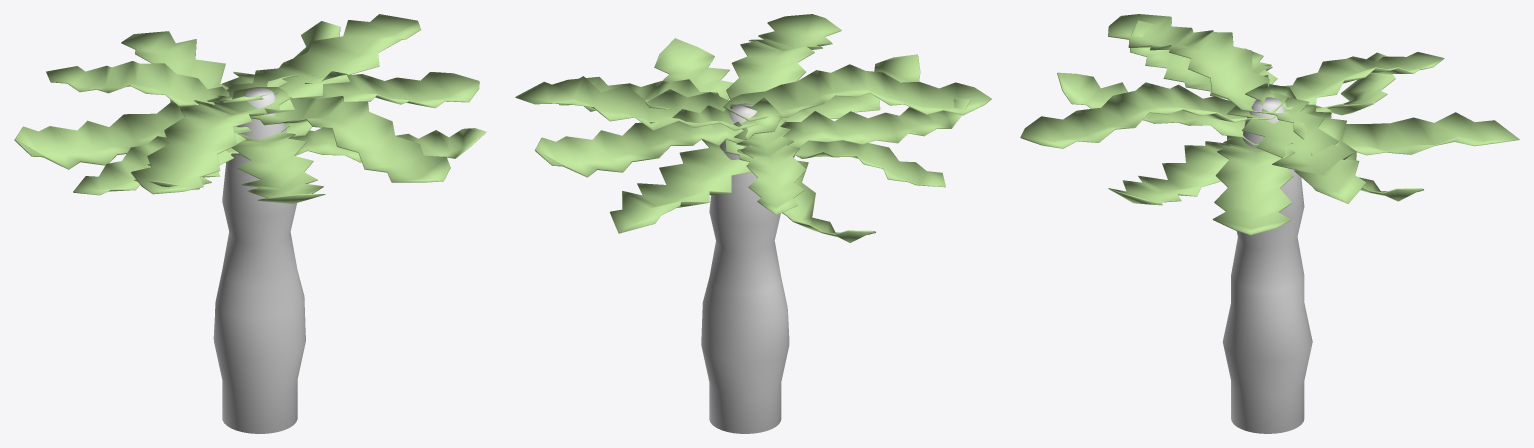
File: palmera 1.fbx
The picture shows the model from 3 angles, left to right: view 1: azimuth 30°, elevation 25°; view 2: azimuth 150°, elevation 25°; view 3: azimuth 270°, elevation 25°; orthographic projection. The views are drawn at different scales.
Parts seen in each view (by area): view 1: Cylinder.002; view 2: Cylinder.002; view 3: Cylinder.002.
Boxes of the visible parts, x1,y1,x2,y2 form: Cylinder.002: [14, 14, 486, 433]; Cylinder.002: [515, 14, 991, 433]; Cylinder.002: [1020, 14, 1519, 433].
Size of the model in its own units: 1077 by 875 by 1168.
